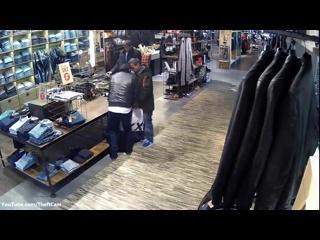Normal: (106, 40, 142, 76)
shoplifting: (105, 59, 141, 160), (129, 59, 155, 148)
